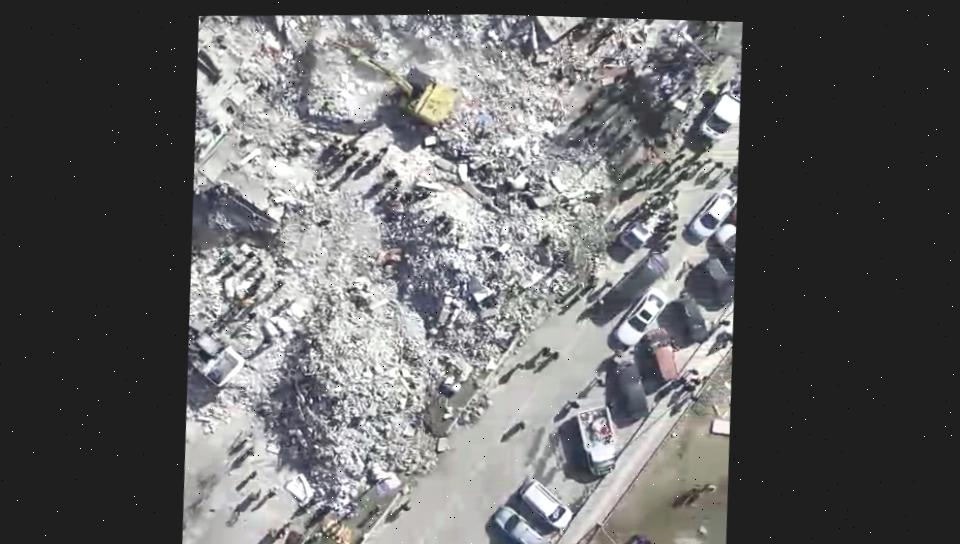kapali: (201, 18, 713, 544), (183, 14, 592, 507)
